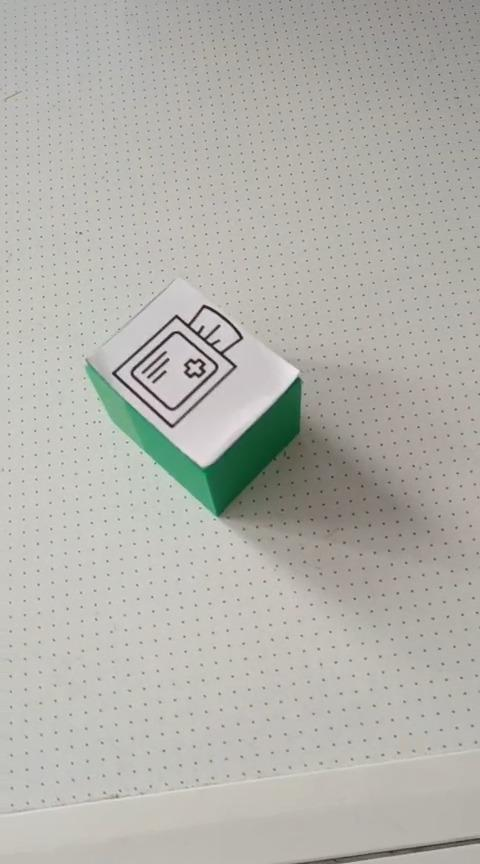Gauze: (83, 275, 303, 517)
